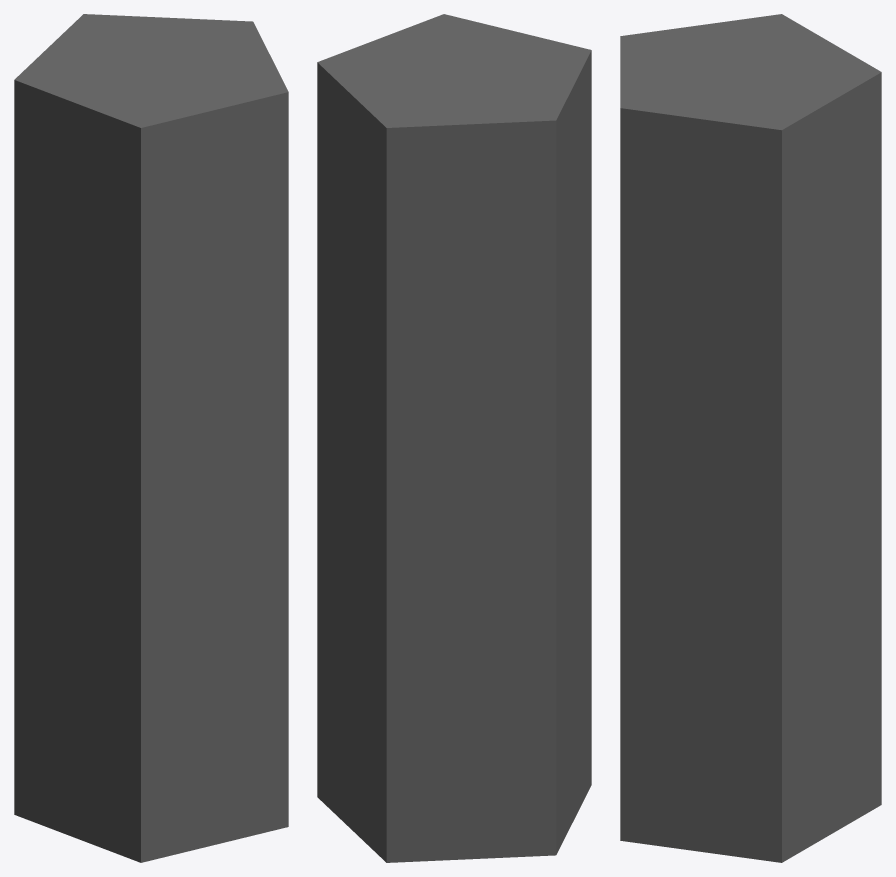
The model's file is Pillar.fbx.
3 views of the same model, side by side, from view 1: azimuth 30°, elevation 25°; view 2: azimuth 150°, elevation 25°; view 3: azimuth 270°, elevation 25° (orthographic).
Parts seen in each view (by area): view 1: Sutun; view 2: Sutun; view 3: Sutun.
Part boxes in pixels (x1,y1,x2,y2): Sutun: (14,14,288,862); Sutun: (317,14,591,862); Sutun: (620,14,881,862).
Bounding box in the file's own units: 1.9 × 5.59 × 1.81.
